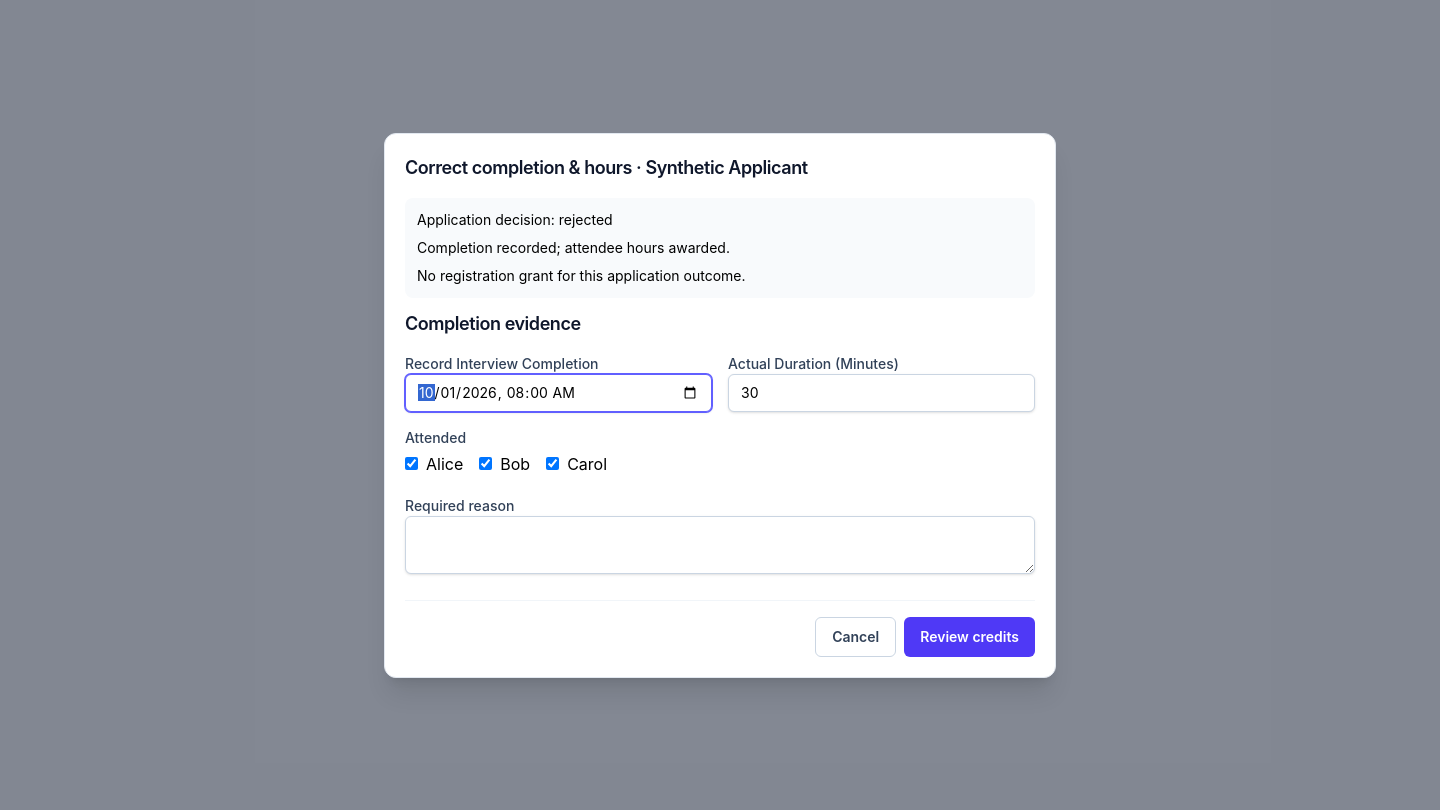
previews correction deltas including removed attendees and keeps registration status separate
This screenshot has width=1440, height=810.
Replace the text in the number field labelled "Actual Duration (Minutes)" with "45" at (882, 392), box [728,374,1035,412]
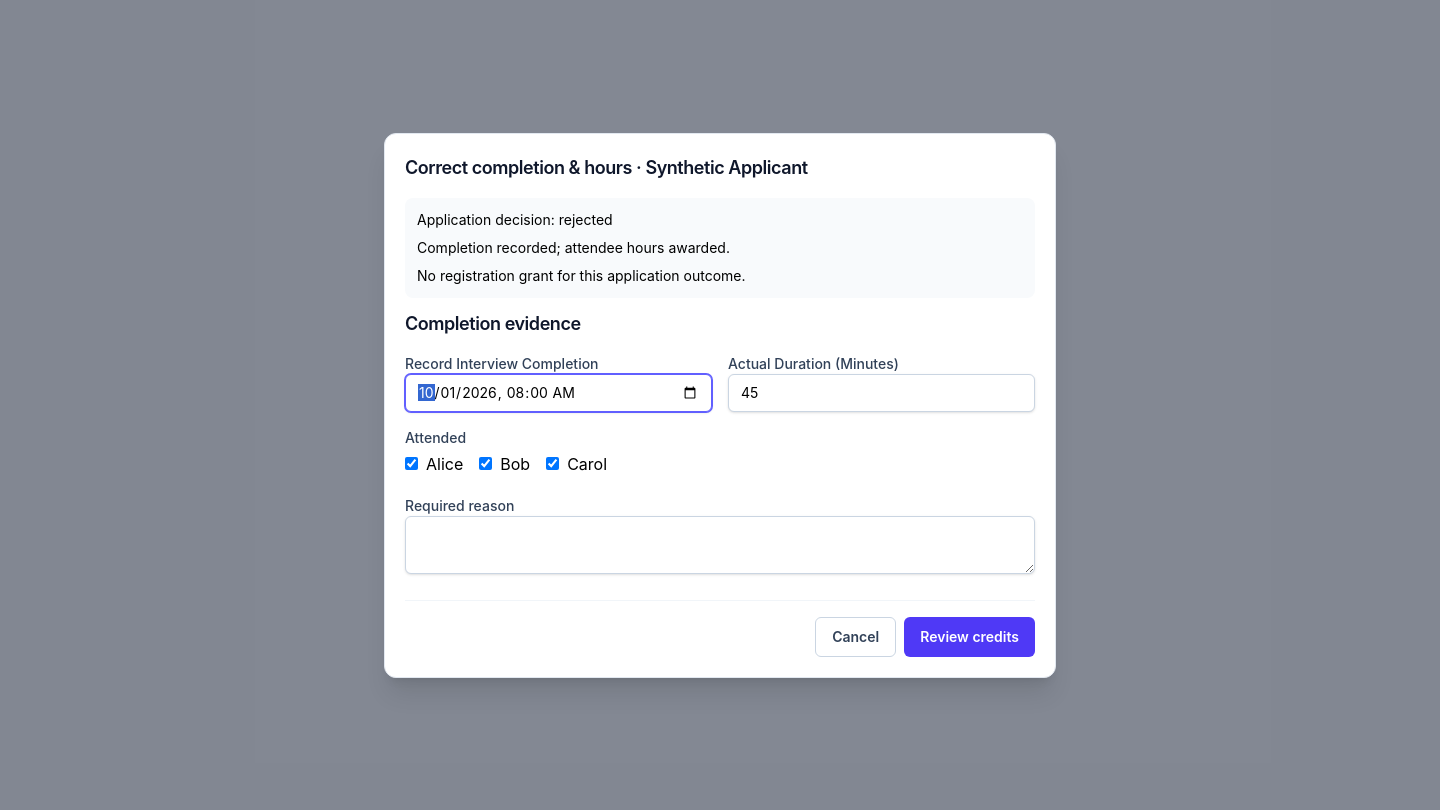
Type "Correction evidence" into the text box labelled "Required reason" at (720, 544), box [405,516,1035,574]
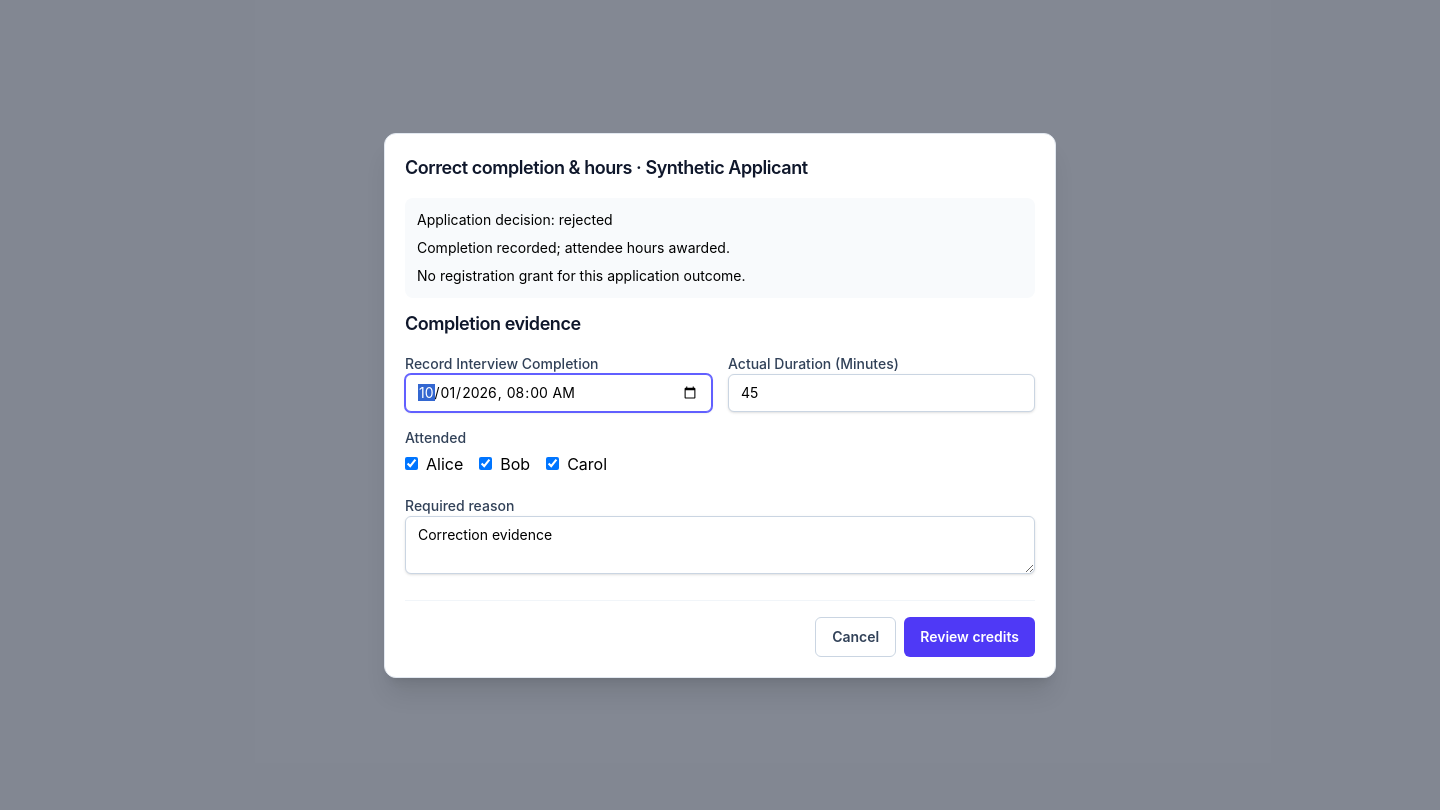
Click the checkbox labelled "Bob" at (486, 464), box [479,457,492,470]
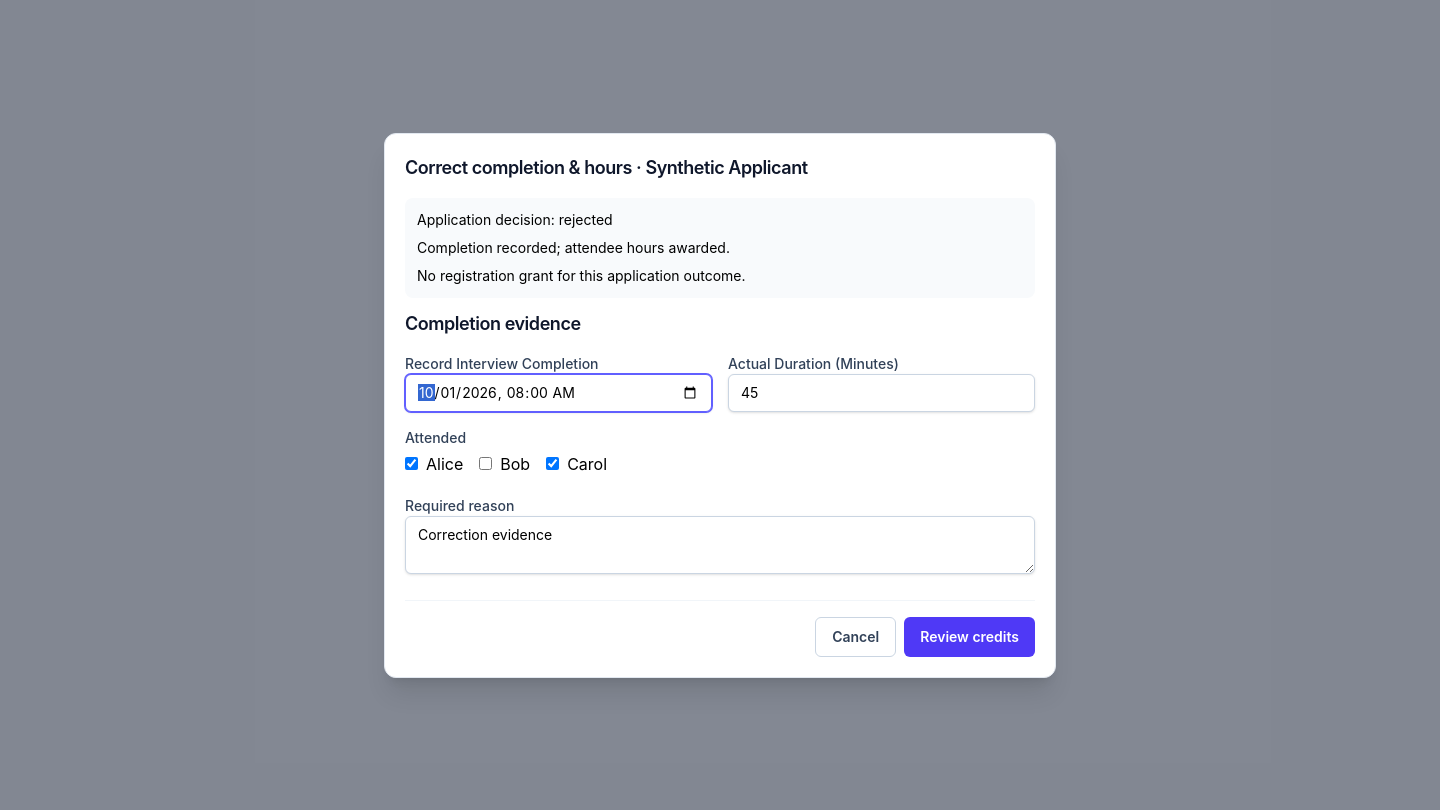
Click the checkbox labelled "Carol" at (553, 464), box [546,457,559,470]
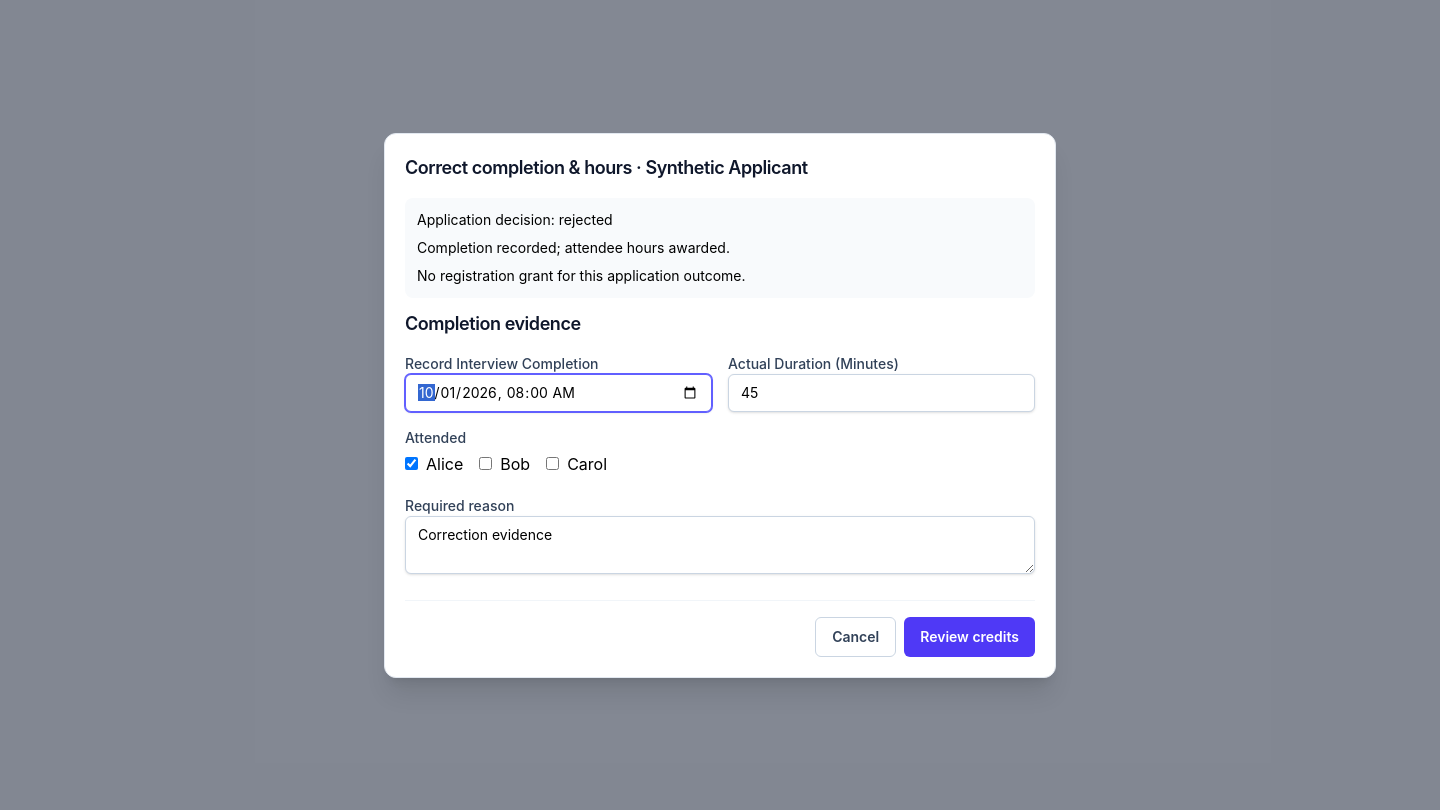
Click the button "Review credits" at (970, 636), box [904,616,1035,656]
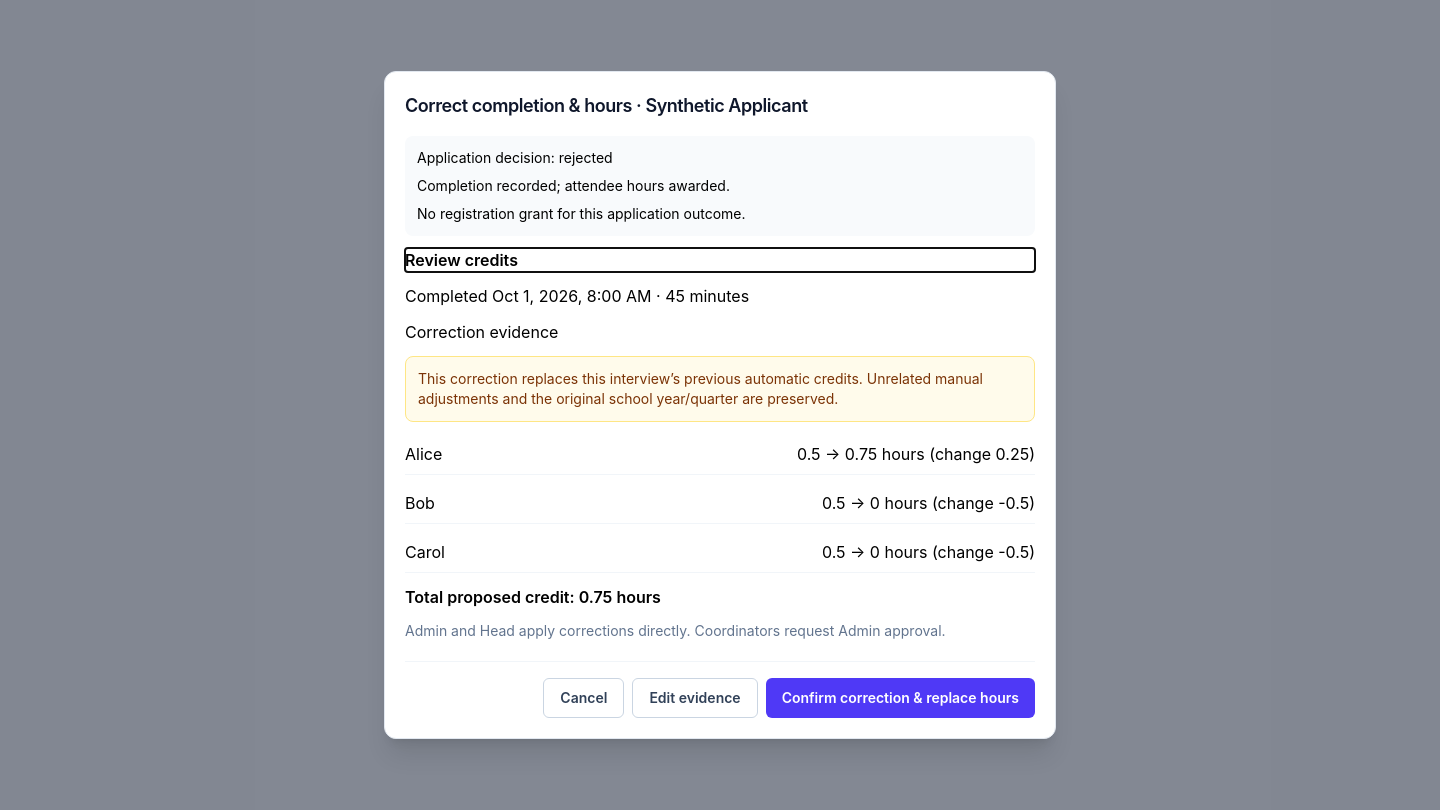
Now the text "0.5 → 0.75 hours (change 0.25)" is shown, box [797,442,1035,466]
Now the text "0.5 → 0 hours (change -0.5)" is shown 2 times, box [822,491,1035,515]; [822,540,1035,564]
Now the text "This correction replaces this interview’s previous automatic credits. Unrelated manual adjustments and the original scho" is shown, box [418,370,983,407]
